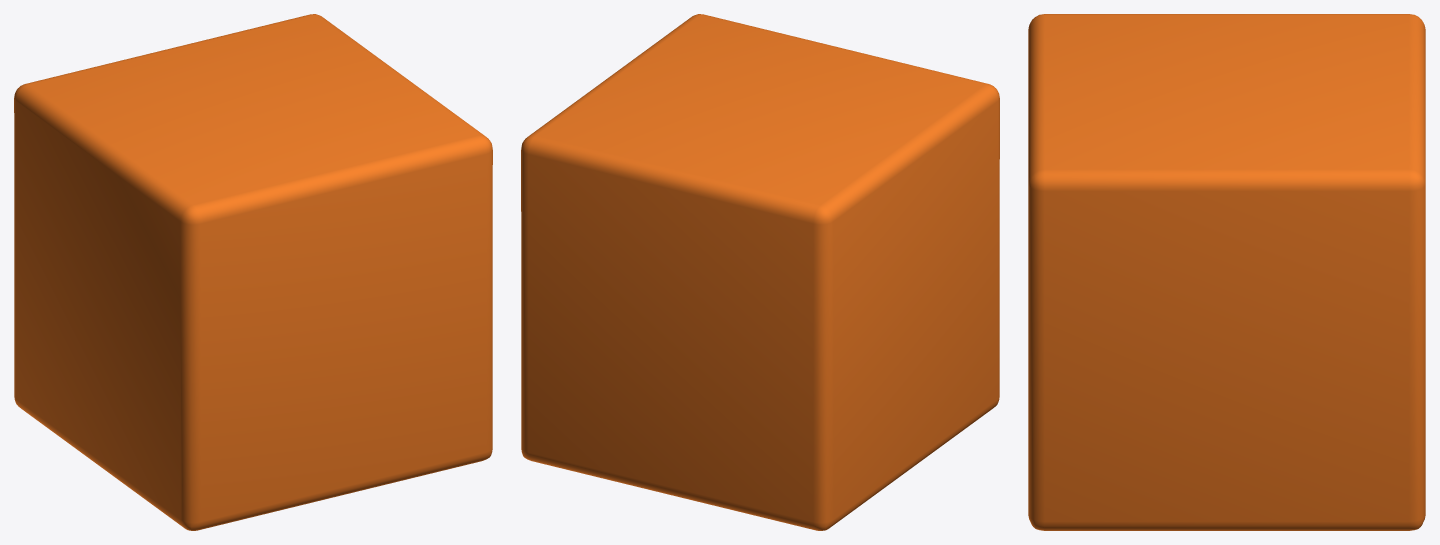
The model's file is skeleton face.fbx.
3 renders of one model, left to right at view 1: azimuth 30°, elevation 25°; view 2: azimuth 150°, elevation 25°; view 3: azimuth 270°, elevation 25°, orthographic. The views are drawn at different scales.
Visible parts, largest first — view 1: part; view 2: part; view 3: part.
Boxes of the visible parts, x1,y1,x2,y2 form: part: (14,14,492,530); part: (521,14,999,530); part: (1028,14,1425,530).
Size of the model in its own units: 1200 by 1308 by 1200.
